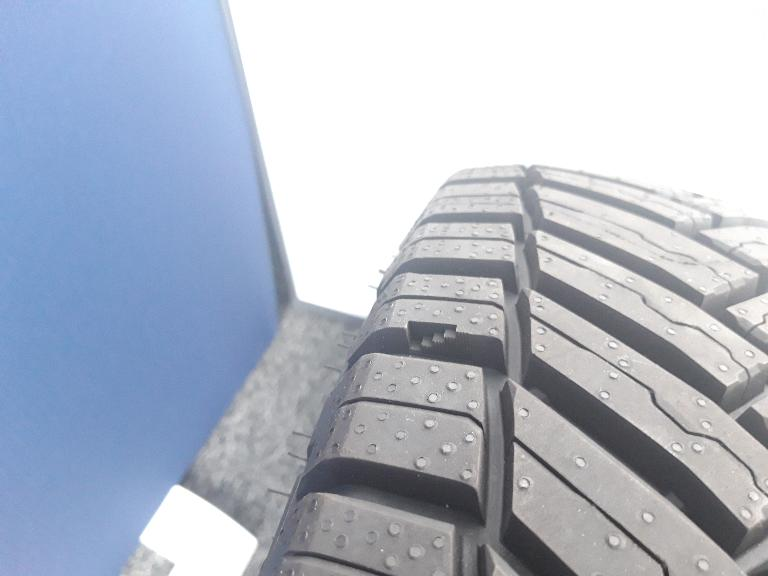temoin:100: (404, 319, 470, 362)
